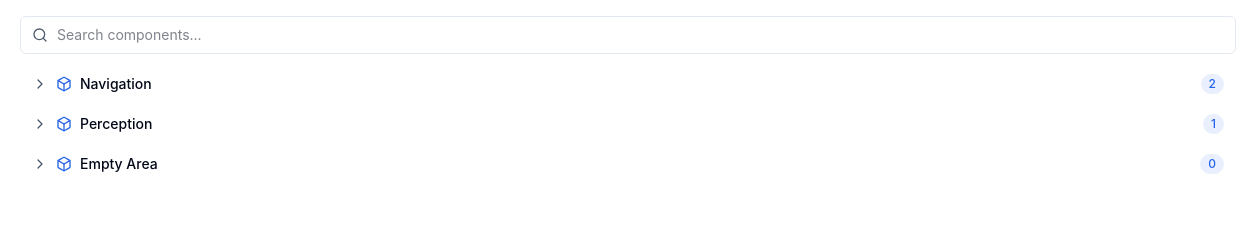
Test case: ComponentTree › shows empty message for areas with no components
Click the list item "Empty Area 0" at (119, 164), box [20,146,1236,182]
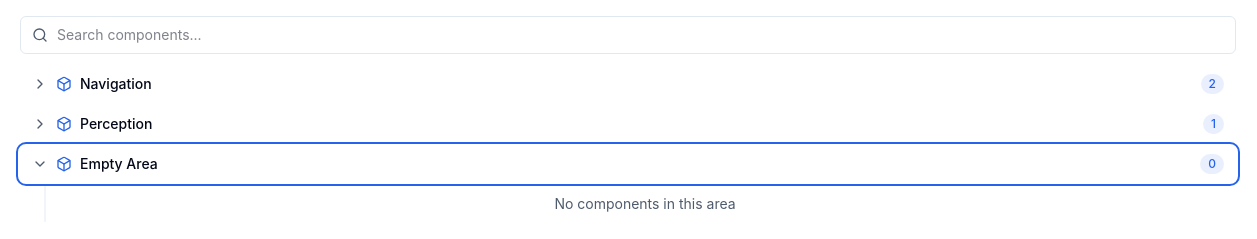
Now the text "No components in this area" is shown, box [554,195,736,212]
